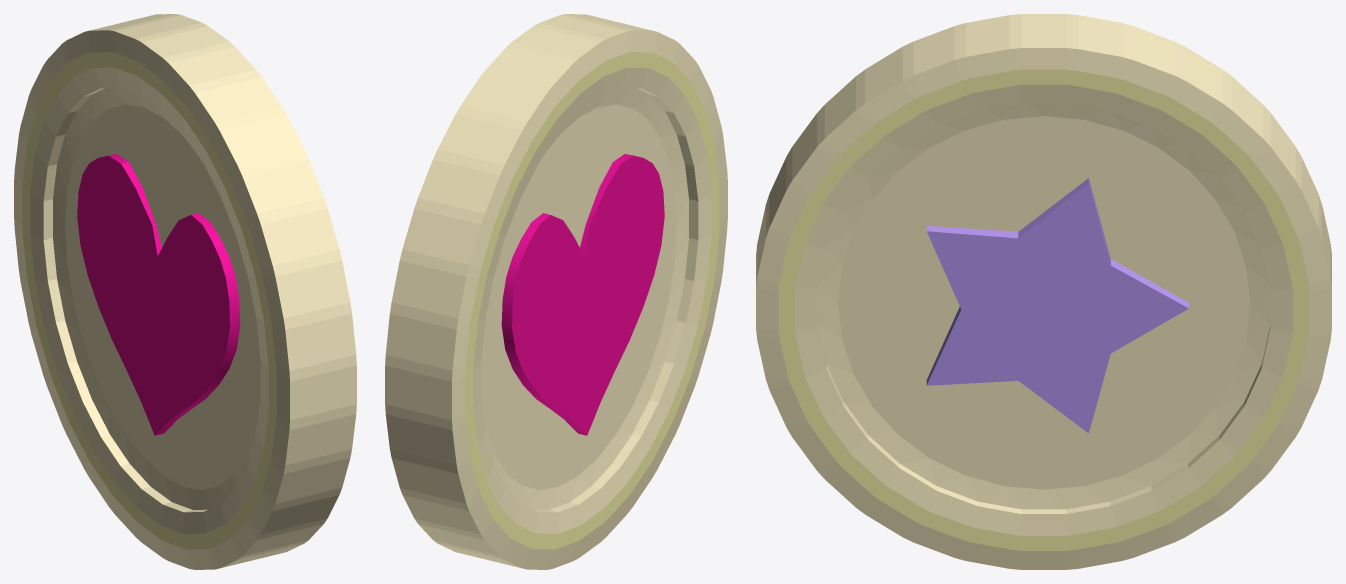
Rendered from piggy_heads or tails (3).fbx.
3 views of the same model, side by side, from view 1: azimuth 30°, elevation 25°; view 2: azimuth 150°, elevation 25°; view 3: azimuth 270°, elevation 25° (orthographic). The views are drawn at different scales.
Visible parts, largest first — view 1: Piggy-Head or tails; view 2: Piggy-Head or tails; view 3: Piggy-Head or tails.
Part boxes in pixels (x1,y1,x2,y2): Piggy-Head or tails: (14,14,356,569); Piggy-Head or tails: (385,14,727,569); Piggy-Head or tails: (756,14,1331,569).
Bounding box in the file's own units: 4.41 × 29.28 × 29.28.
